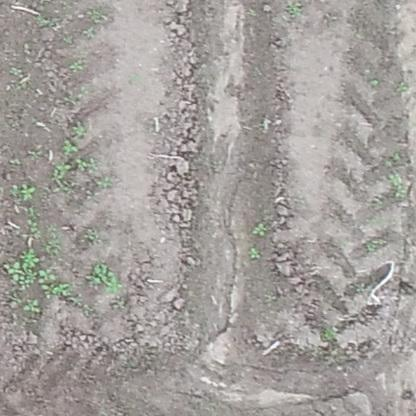vc: (250, 221, 270, 238), (7, 262, 25, 280)
